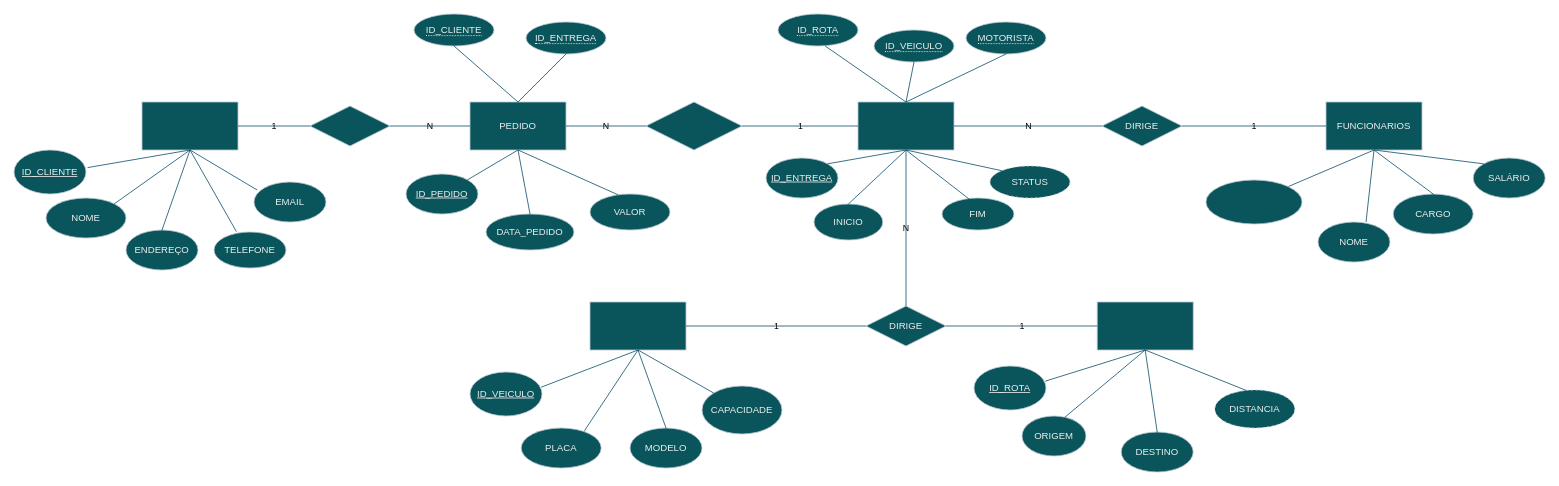
Some shapes in this 1559 by 486 pixel diagram are drawn without their labels. Here are the shapes that lost their labels. From the top down, the centre of each, then its label:
point 189,125: CLIENTES
point 349,125: FAZ
point 693,125: POSSUI
point 905,125: ENTREGA
point 1253,201: ID_FUNCIONARIO
point 637,325: VEICULOS
point 1144,325: ROTA
